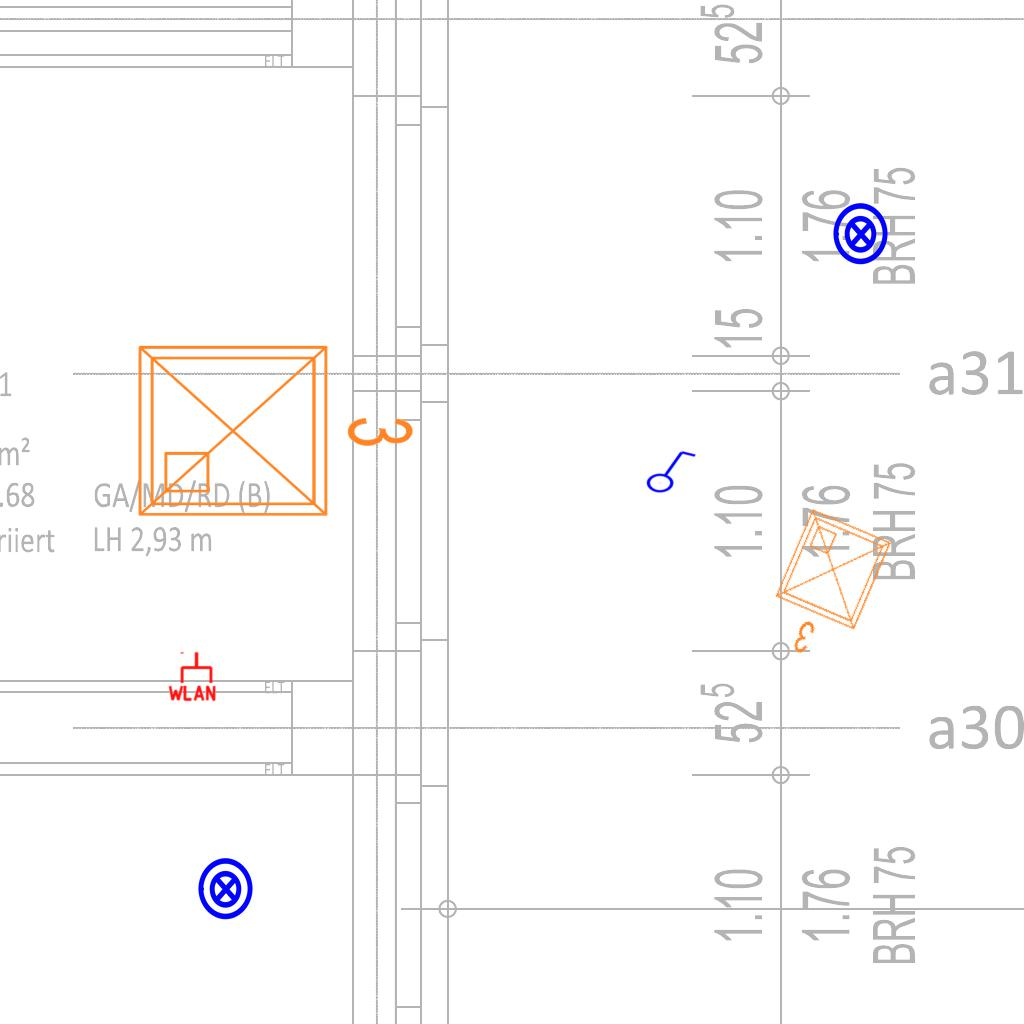Ausschalter: (641, 446, 697, 494)
Einbaudownlights_LED_Konferenzraeume: (124, 323, 424, 531), (749, 499, 905, 679)
Taster_beleuchtet: (828, 201, 894, 267), (193, 856, 259, 922)
WLAN: (166, 650, 218, 702)
